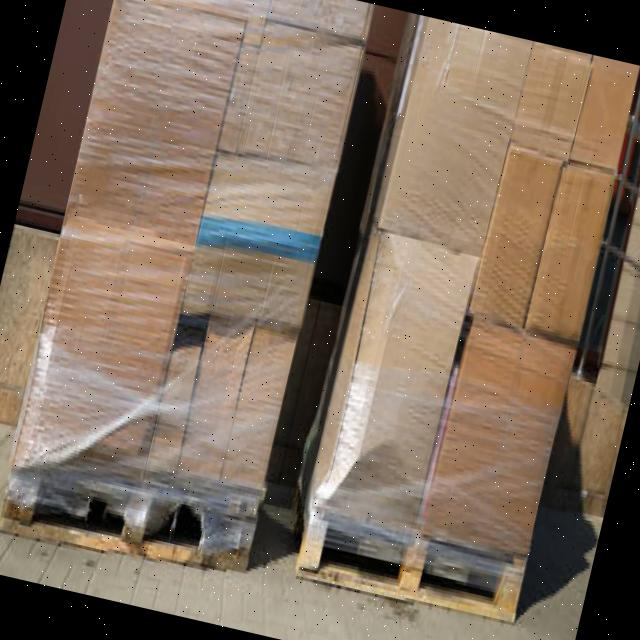Wooden-Pallets: (0, 468, 254, 583), (296, 512, 528, 627)
